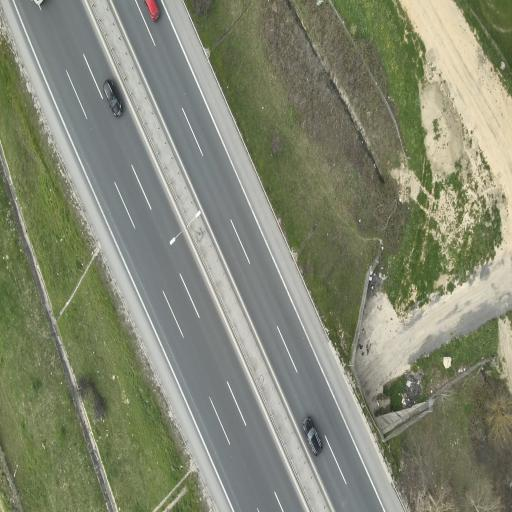car: (303, 417, 322, 456), (103, 78, 122, 117), (144, 0, 159, 21)
